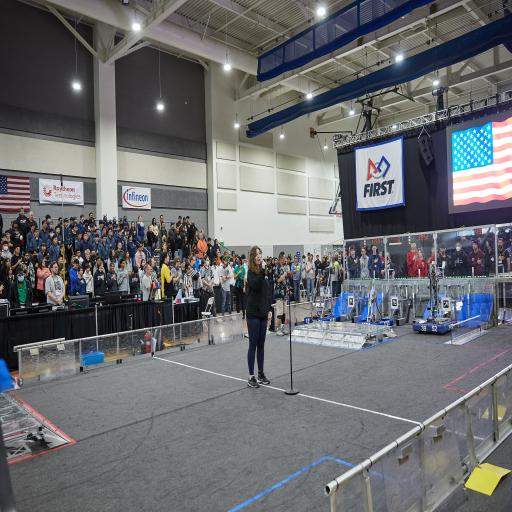robot: (412, 294, 452, 333)
